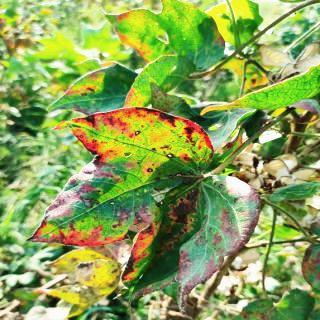blight: (15, 92, 280, 309)
